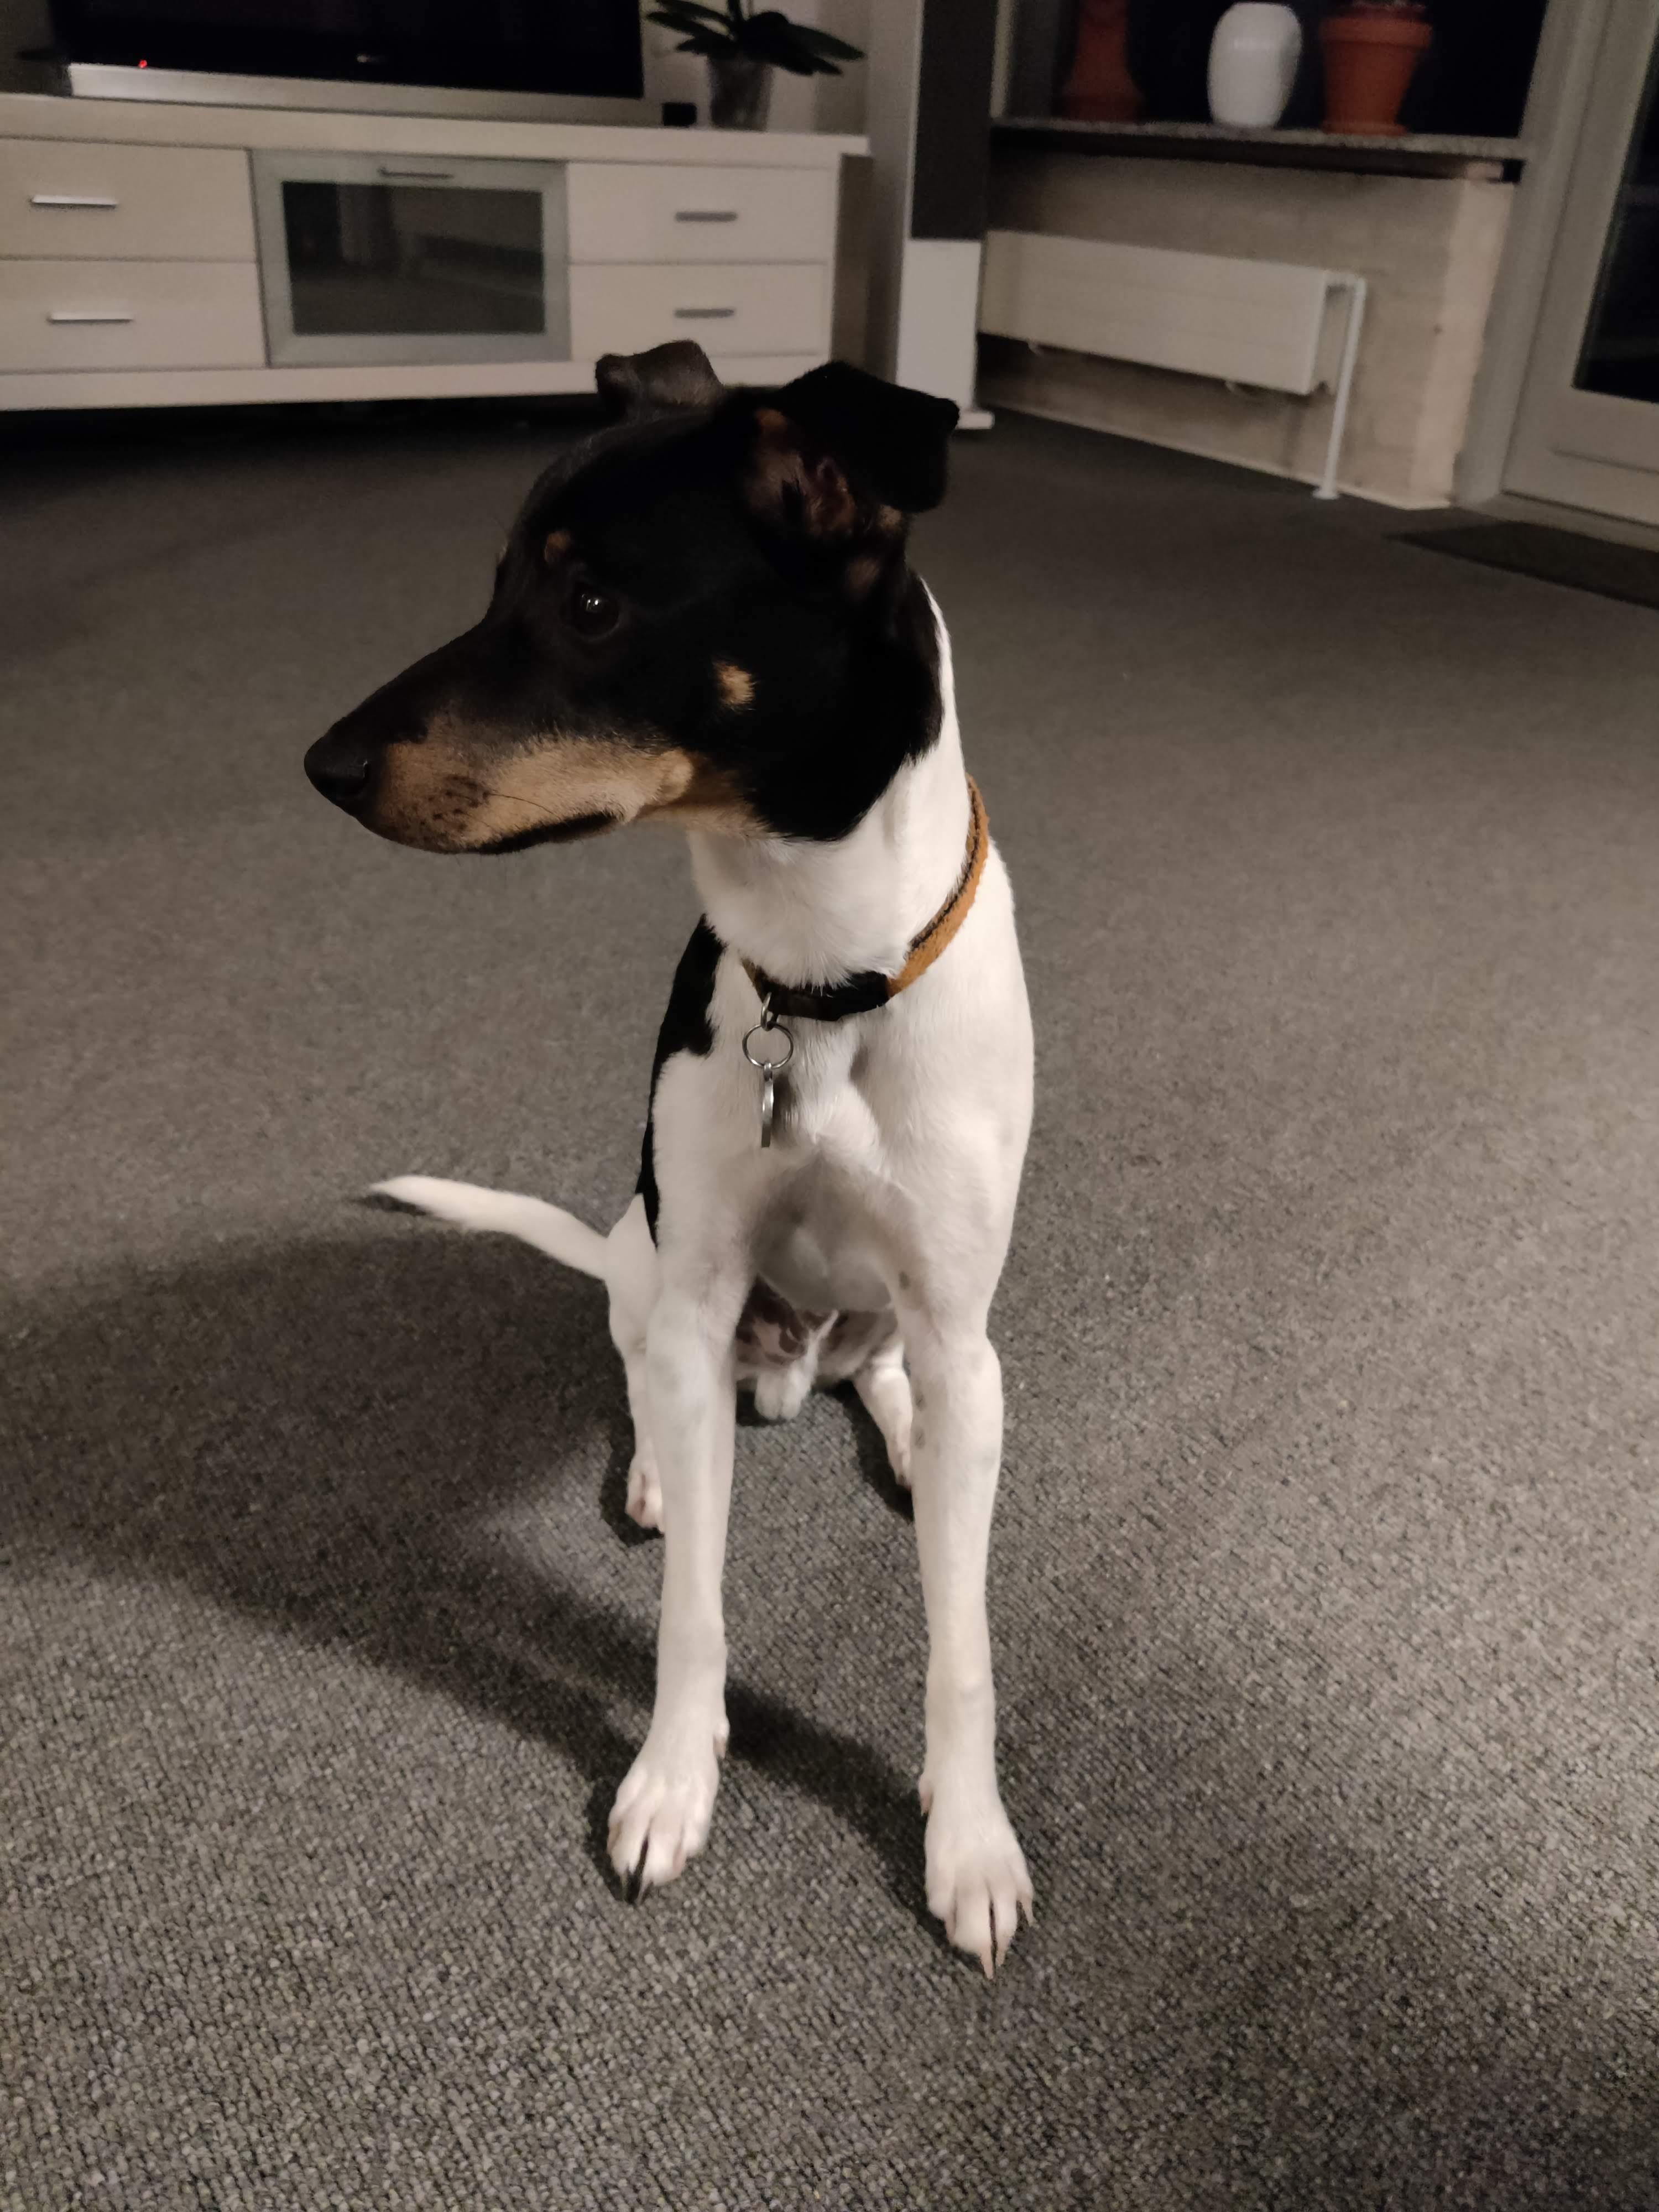Dog: (303, 315, 1056, 1996)
